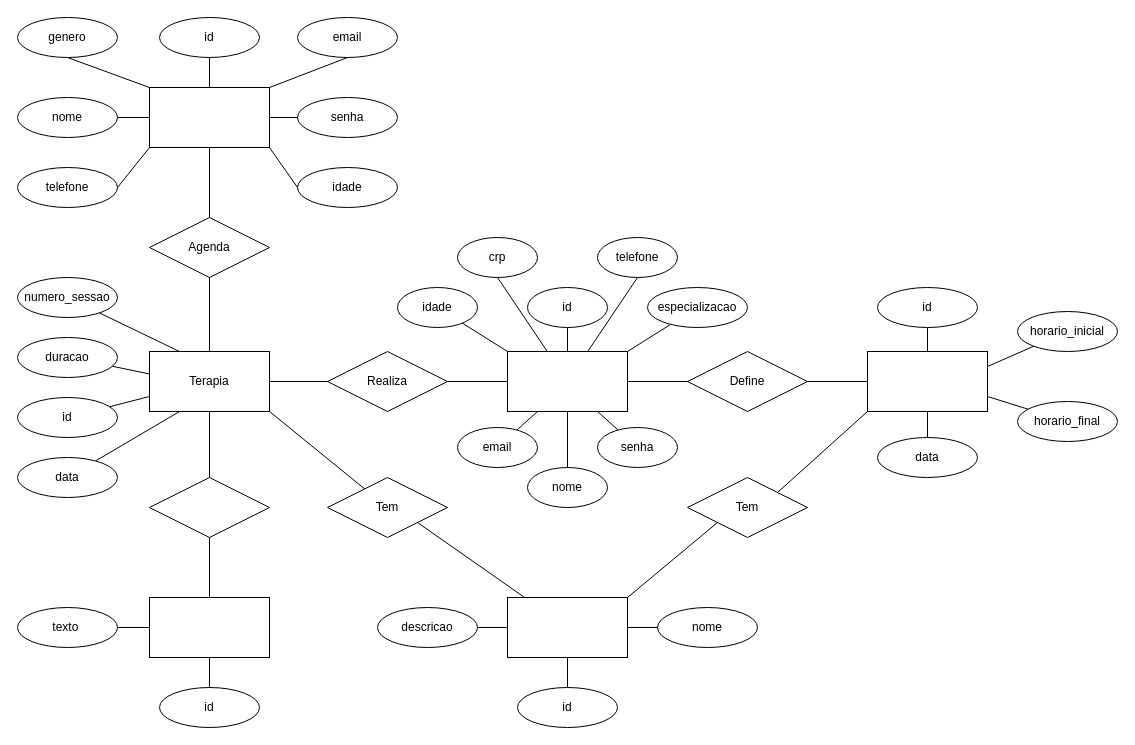
This 1135x745 diagram has some shape labels left out. The shapes that lost their labels are listed below. From the top down, each one's centre as x and y in pixels, then its label:
At [209,117]: "Paciente".
At [567,381]: "Psicólogo".
At [927,381]: "Disponibilidade".
At [209,507]: "Gera".
At [209,627]: "Laudo".
At [567,627]: "Sala".
